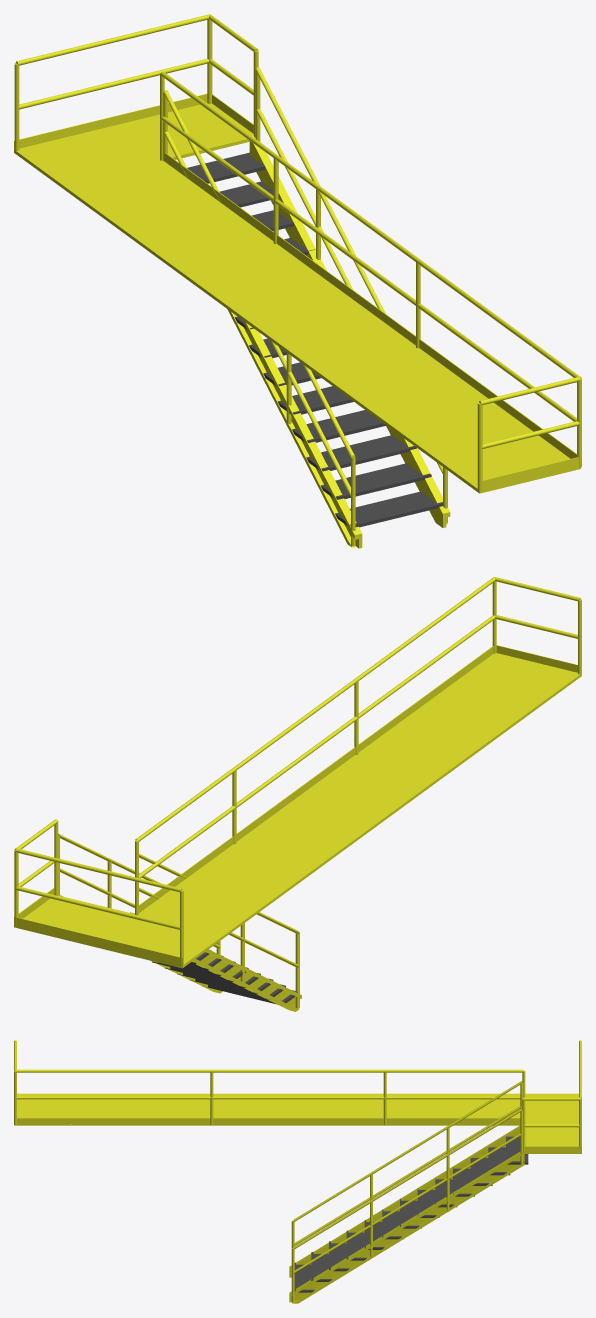
File: Maintainance Stairway Access Single Stairway.dae
3 renders of one model, top to bottom at view 1: azimuth 30°, elevation 25°; view 2: azimuth 150°, elevation 25°; view 3: azimuth 270°, elevation 25°, orthographic. The views are drawn at different scales.
Parts seen in each view (by area): view 1: Cylinder_005; view 2: Cylinder_005; view 3: Cylinder_005.
Boxes of the visible parts, x1,y1,x2,y2 form: Cylinder_005: (14, 14, 581, 548); Cylinder_005: (14, 577, 581, 1011); Cylinder_005: (14, 1040, 581, 1303).
Bounding box in the file's own units: 2.35 × 9.63 × 3.84.
